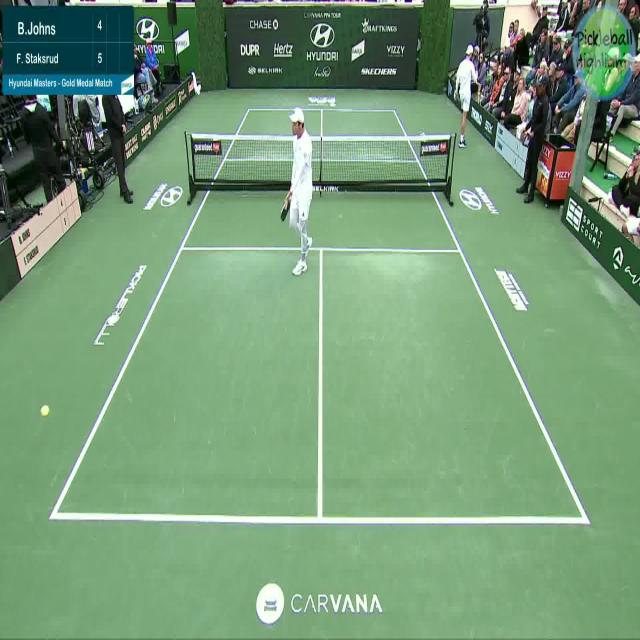ball: (38, 396, 50, 421)
